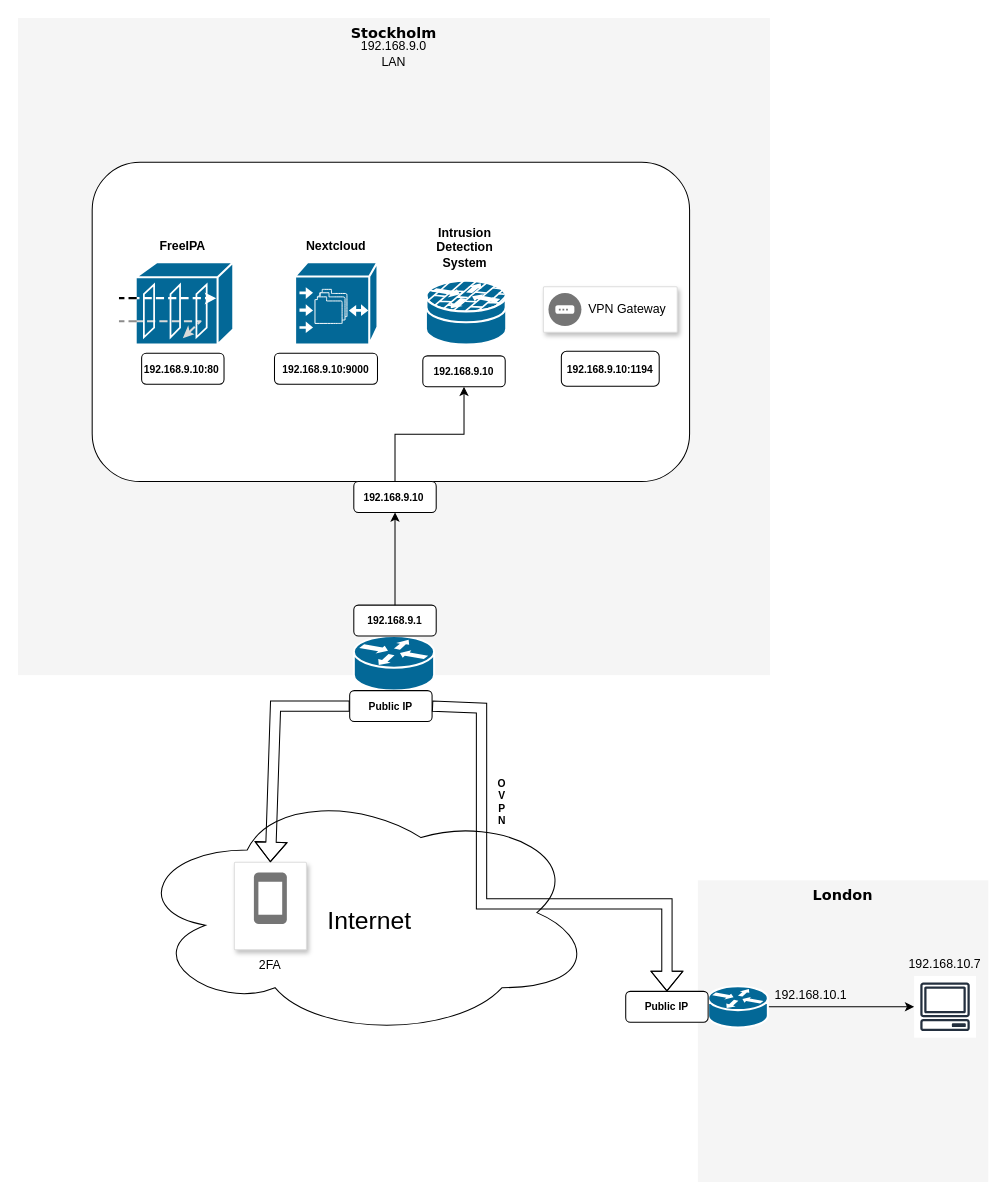
The diagram is 1005 pixels wide and 1199 high, and some of its shapes have lost their labels. Here are the shapes that lost their labels. From the top down, the centre of each, then its label:
At point 271,907: "Phone".
At point 944,1006: "Client".
